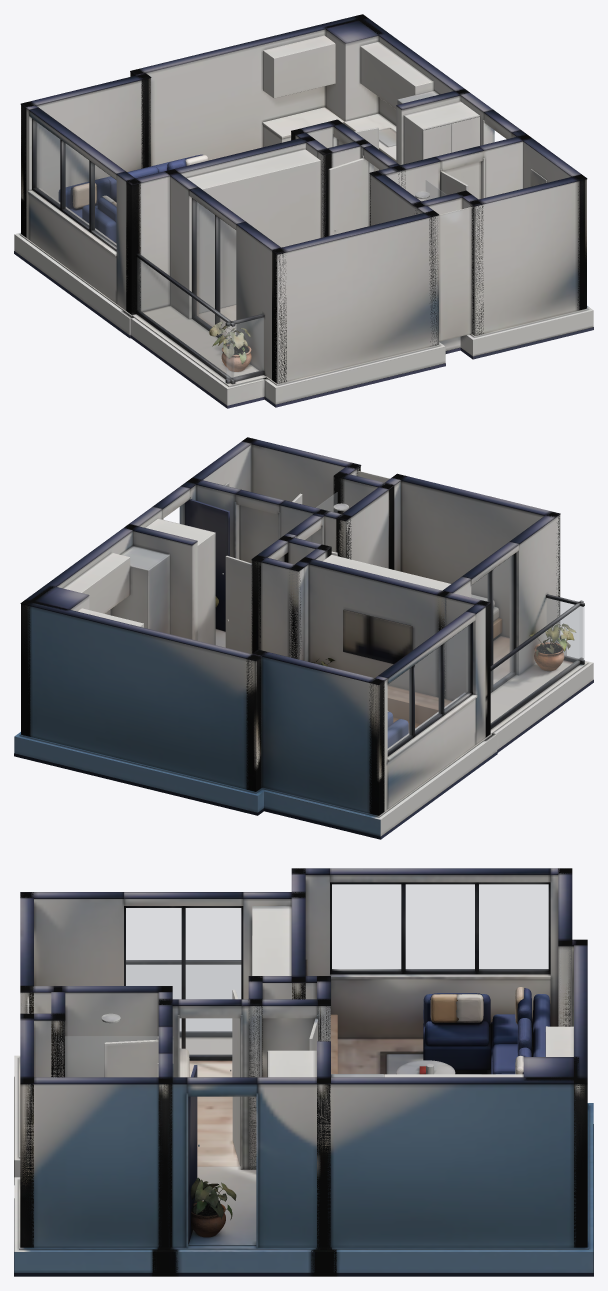
3 renders of one model, top to bottom at view 1: azimuth 30°, elevation 25°; view 2: azimuth 150°, elevation 25°; view 3: azimuth 270°, elevation 25°, orthographic. The views are drawn at different scales.
Parts seen in each view (by area): view 1: plan, railg2_m, glass0_m, glass1_m, railg1_m; view 2: plan, glass0_m, railg2_m, glass1_m, railg1_m; view 3: plan, glass0_m, glass1_m, railg2_m, sg_m.
Part boxes in pixels (left/top/right/bottom): plan: left=14, top=14, right=593, bottom=408; railg2_m: left=137, top=258, right=233, bottom=379; glass0_m: left=35, top=121, right=116, bottom=246; glass1_m: left=195, top=201, right=235, bottom=335; railg1_m: left=226, top=318, right=263, bottom=379; plan: left=14, top=437, right=593, bottom=839; glass0_m: left=388, top=625, right=469, bottom=751; railg2_m: left=491, top=606, right=581, bottom=723; glass1_m: left=471, top=555, right=513, bottom=685; railg1_m: left=547, top=598, right=584, bottom=660; plan: left=14, top=868, right=593, bottom=1276; glass0_m: left=332, top=884, right=548, bottom=969; glass1_m: left=126, top=908, right=240, bottom=1055; railg2_m: left=126, top=965, right=240, bottom=1031; sg_m: left=65, top=1036, right=157, bottom=1076.
Size of the model in its own units: 6.49 by 2.62 by 7.22.
Materials: 2 (1 with a texture image).
